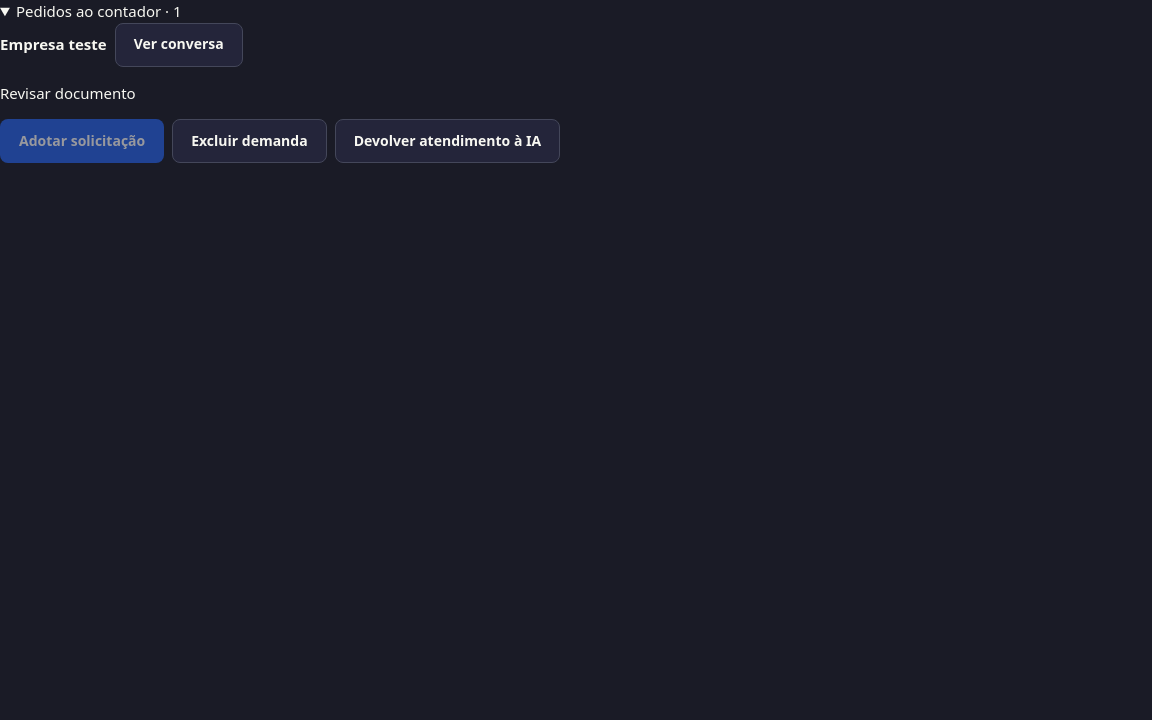
excluir demanda confirma o pedido e preserva conversa, pausa e outras ações
The width and height of the screenshot is (1152, 720).
Click the button "Excluir demanda" at coordinates (249, 141), box [172,119,327,163]
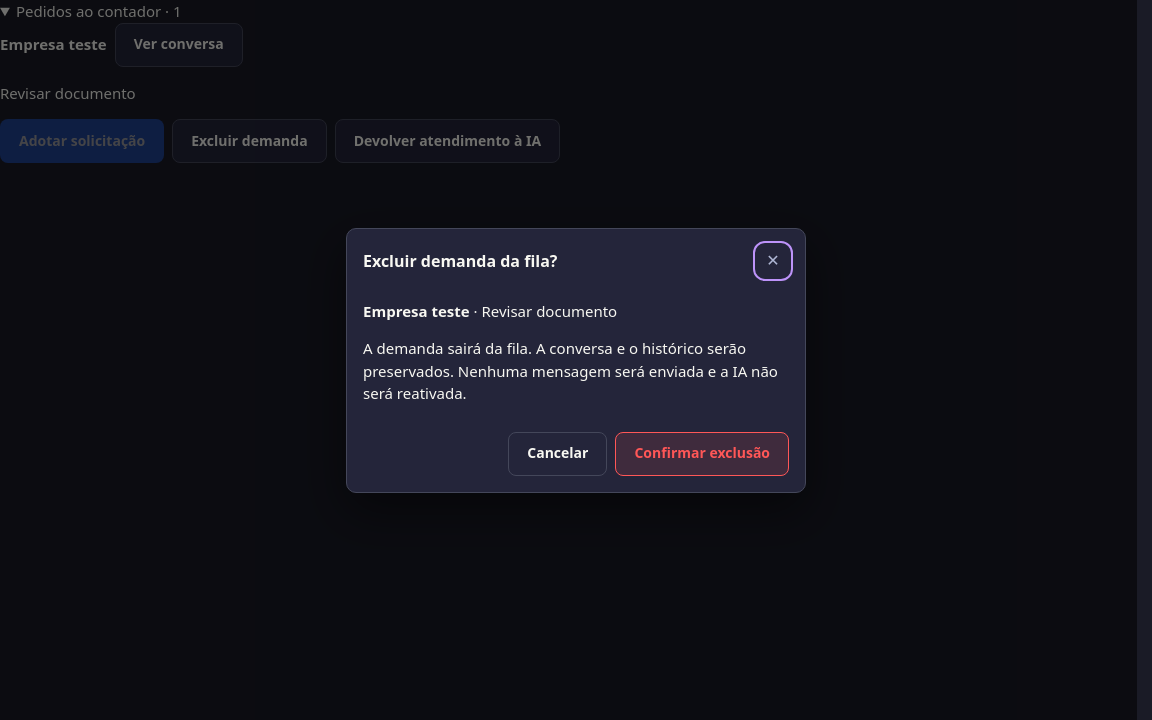
Result: the dialog shows "Revisar documento" at [482,300,617,320]
Result: the dialog shows "a IA não será reativada" at [363,338,778,403]
Click the button "Cancelar" at coordinates (558, 454), box [508,432,607,476]
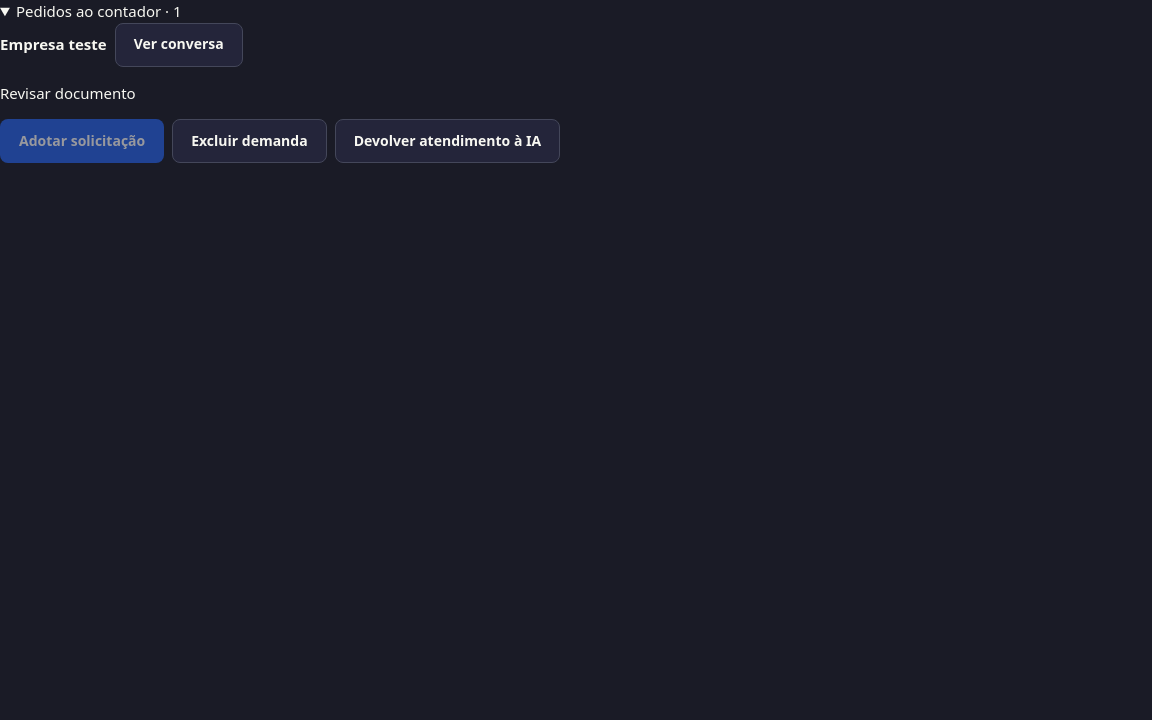
Click the button "Excluir demanda" at coordinates (249, 141), box [172,119,327,163]
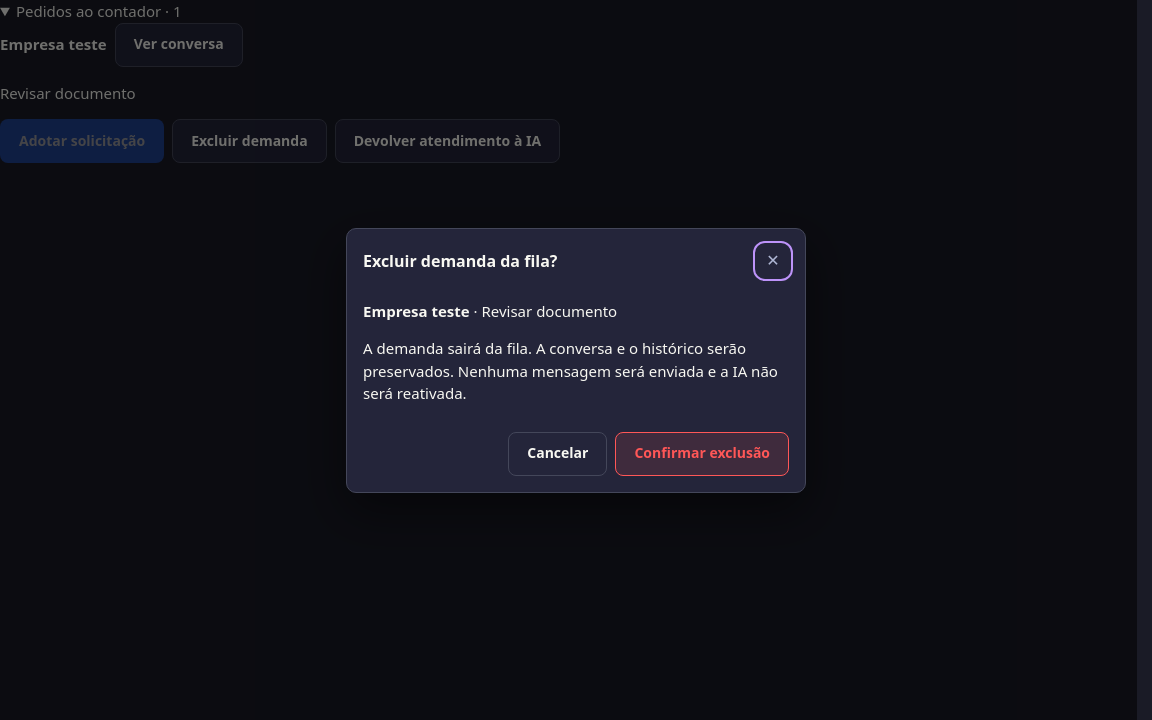
Click the button "Confirmar exclusão" at coordinates (702, 454), box [615,432,789,476]
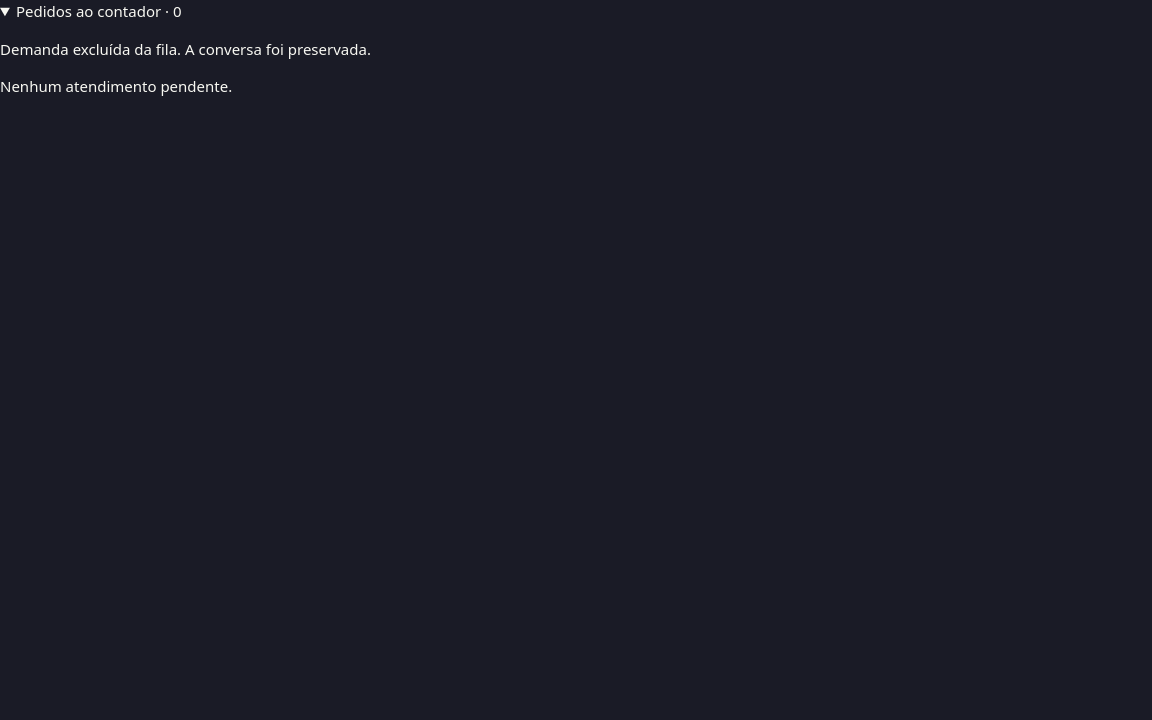
Result: the text "Nenhum atendimento pendente." is shown at [0,76,232,96]
